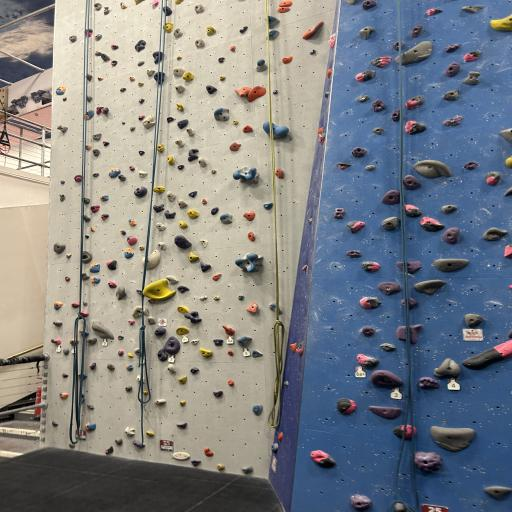holds: (464, 339, 512, 368), (432, 426, 477, 451), (144, 278, 176, 301), (413, 160, 451, 179), (400, 42, 432, 64), (413, 451, 441, 473), (435, 358, 461, 378), (413, 278, 445, 294), (371, 371, 403, 387), (432, 259, 470, 272), (237, 86, 265, 102), (490, 13, 512, 32), (93, 320, 115, 339), (368, 406, 400, 419), (310, 451, 336, 467), (484, 486, 512, 499), (358, 352, 380, 368), (237, 256, 259, 272), (483, 227, 509, 240), (419, 218, 445, 230), (442, 227, 461, 243), (352, 493, 371, 509), (304, 22, 323, 38), (336, 397, 355, 413), (163, 336, 179, 355), (234, 166, 256, 179), (378, 282, 400, 294), (445, 61, 461, 77), (384, 189, 400, 205), (406, 96, 425, 109), (147, 250, 160, 269), (464, 314, 483, 326), (406, 122, 425, 134), (381, 218, 400, 230), (362, 298, 381, 310), (419, 378, 438, 390), (410, 323, 422, 342), (349, 221, 365, 234), (176, 237, 192, 250), (486, 170, 499, 186), (403, 176, 419, 189), (406, 205, 422, 218), (272, 125, 288, 138), (406, 262, 422, 275), (464, 70, 480, 83), (214, 109, 230, 122), (186, 310, 201, 323), (358, 26, 374, 38), (400, 426, 416, 438), (362, 262, 381, 272), (445, 115, 464, 125), (355, 70, 374, 80), (394, 426, 409, 438), (371, 58, 390, 67), (374, 99, 387, 112), (246, 301, 259, 314), (144, 115, 157, 128), (134, 38, 147, 51), (499, 128, 512, 141), (352, 147, 368, 157), (381, 342, 397, 352), (464, 51, 480, 61), (173, 451, 189, 461), (157, 349, 169, 362), (134, 186, 147, 198), (461, 6, 483, 13), (154, 71, 165, 85), (362, 326, 377, 336), (362, 0, 377, 10), (237, 336, 252, 346), (442, 205, 457, 214), (346, 250, 361, 259), (464, 160, 477, 170), (176, 326, 189, 336), (243, 211, 256, 221), (115, 288, 125, 301), (166, 275, 179, 285), (333, 208, 345, 218), (221, 214, 233, 224), (183, 70, 195, 80), (106, 259, 118, 269), (154, 326, 166, 336), (173, 67, 185, 77), (83, 250, 93, 262), (394, 502, 406, 512), (198, 349, 211, 358), (224, 323, 233, 336), (397, 326, 406, 339), (176, 285, 189, 294), (253, 403, 262, 416), (189, 147, 198, 160), (246, 253, 259, 262), (269, 16, 278, 29), (445, 90, 457, 99), (413, 26, 422, 38), (125, 247, 134, 259), (109, 170, 121, 179), (179, 118, 189, 128), (86, 422, 96, 432), (54, 243, 64, 253), (195, 38, 205, 48), (179, 304, 189, 314), (134, 438, 144, 448), (195, 3, 205, 13), (147, 67, 157, 77), (163, 6, 173, 16), (99, 51, 109, 61), (134, 307, 144, 317), (445, 45, 461, 51), (163, 211, 176, 218), (339, 163, 352, 170), (426, 10, 441, 16), (189, 208, 198, 218), (230, 141, 240, 150), (247, 230, 256, 240), (211, 272, 221, 281), (202, 262, 211, 272), (198, 157, 208, 166), (54, 301, 64, 310), (275, 170, 285, 179), (90, 262, 99, 272), (166, 192, 176, 201), (179, 198, 188, 208), (128, 237, 137, 246), (205, 448, 214, 457), (189, 253, 198, 262), (157, 221, 166, 230), (176, 138, 185, 147), (173, 29, 182, 38), (106, 445, 115, 454), (125, 426, 134, 435), (167, 365, 176, 374), (186, 128, 195, 137), (269, 29, 278, 38), (58, 125, 67, 134), (256, 61, 265, 70), (358, 96, 371, 102), (394, 109, 400, 122), (154, 51, 160, 64), (506, 243, 512, 256), (330, 35, 336, 48), (262, 122, 269, 133), (154, 186, 166, 192), (410, 298, 416, 310), (279, 0, 291, 6), (136, 375, 144, 384), (243, 467, 253, 474), (166, 22, 173, 32), (214, 390, 224, 397), (214, 339, 224, 346), (326, 67, 333, 77), (319, 133, 325, 144), (70, 338, 78, 346), (176, 422, 185, 429), (208, 86, 217, 93), (365, 163, 374, 170), (93, 134, 102, 141), (176, 86, 185, 93), (157, 243, 166, 250), (199, 294, 208, 301), (179, 221, 189, 227), (374, 128, 384, 134), (179, 374, 185, 384), (243, 125, 253, 131), (176, 102, 182, 112), (262, 202, 272, 208), (58, 86, 64, 96), (166, 157, 176, 163), (147, 317, 157, 323), (291, 342, 297, 352), (80, 330, 90, 336), (102, 106, 109, 114), (85, 29, 92, 37), (282, 58, 291, 64), (109, 282, 118, 288), (192, 461, 201, 467), (208, 26, 214, 35), (154, 205, 163, 211), (189, 192, 198, 198), (128, 221, 137, 227), (90, 205, 99, 211), (298, 346, 304, 355), (74, 176, 83, 182), (253, 352, 262, 358), (87, 336, 96, 342), (272, 442, 278, 451), (138, 170, 147, 176), (506, 157, 512, 166), (240, 26, 249, 32), (102, 214, 109, 221), (70, 35, 77, 42), (190, 368, 198, 374), (202, 240, 208, 248), (104, 6, 110, 14), (86, 95, 92, 103), (93, 150, 99, 157), (230, 45, 237, 51), (54, 320, 61, 326), (87, 403, 93, 410), (86, 112, 93, 118), (93, 278, 99, 285), (83, 198, 89, 205), (96, 3, 102, 10), (234, 118, 240, 125), (118, 349, 125, 355), (192, 339, 198, 346), (115, 438, 121, 445), (122, 3, 128, 10), (83, 214, 89, 221), (86, 74, 92, 81), (101, 195, 108, 201), (211, 208, 217, 214), (154, 400, 166, 403), (157, 144, 163, 150), (61, 394, 67, 400), (218, 58, 224, 64), (128, 365, 134, 371), (109, 365, 115, 371), (90, 362, 96, 368), (227, 381, 233, 387), (166, 118, 175, 122), (96, 51, 102, 57), (96, 35, 102, 41), (103, 141, 109, 147), (269, 304, 275, 310), (506, 189, 512, 195), (128, 352, 134, 358), (218, 464, 224, 470), (179, 400, 185, 406), (64, 349, 70, 355), (96, 109, 102, 115), (154, 0, 160, 6), (83, 272, 89, 278), (138, 60, 144, 66), (86, 144, 92, 150), (138, 114, 144, 120), (134, 349, 141, 354), (346, 0, 357, 3), (318, 127, 322, 135), (51, 339, 61, 342), (228, 350, 233, 356), (178, 165, 184, 170), (93, 173, 100, 177), (278, 432, 281, 441), (112, 60, 117, 65), (122, 230, 128, 234), (51, 422, 57, 426), (64, 278, 70, 282), (61, 374, 67, 378), (138, 82, 144, 86), (310, 50, 316, 54), (325, 92, 329, 98), (66, 254, 72, 258), (138, 151, 144, 155), (130, 127, 136, 131), (284, 380, 288, 386), (240, 294, 243, 301), (61, 195, 64, 202), (118, 336, 125, 339), (177, 56, 182, 60), (273, 90, 278, 94), (308, 218, 312, 223), (83, 302, 88, 306), (61, 179, 65, 184), (202, 199, 206, 204), (62, 97, 67, 101), (144, 390, 148, 395), (147, 432, 153, 435), (125, 387, 131, 390), (112, 45, 118, 48), (119, 176, 125, 179), (74, 304, 80, 307), (128, 320, 134, 323), (138, 99, 144, 102), (176, 0, 182, 3), (120, 88, 126, 91), (214, 297, 220, 300), (212, 170, 216, 174), (98, 77, 102, 80), (92, 227, 94, 232), (131, 77, 134, 80), (131, 166, 134, 169), (304, 266, 307, 269), (221, 77, 224, 80), (141, 246, 144, 249), (86, 235, 88, 238), (122, 122, 125, 124)
